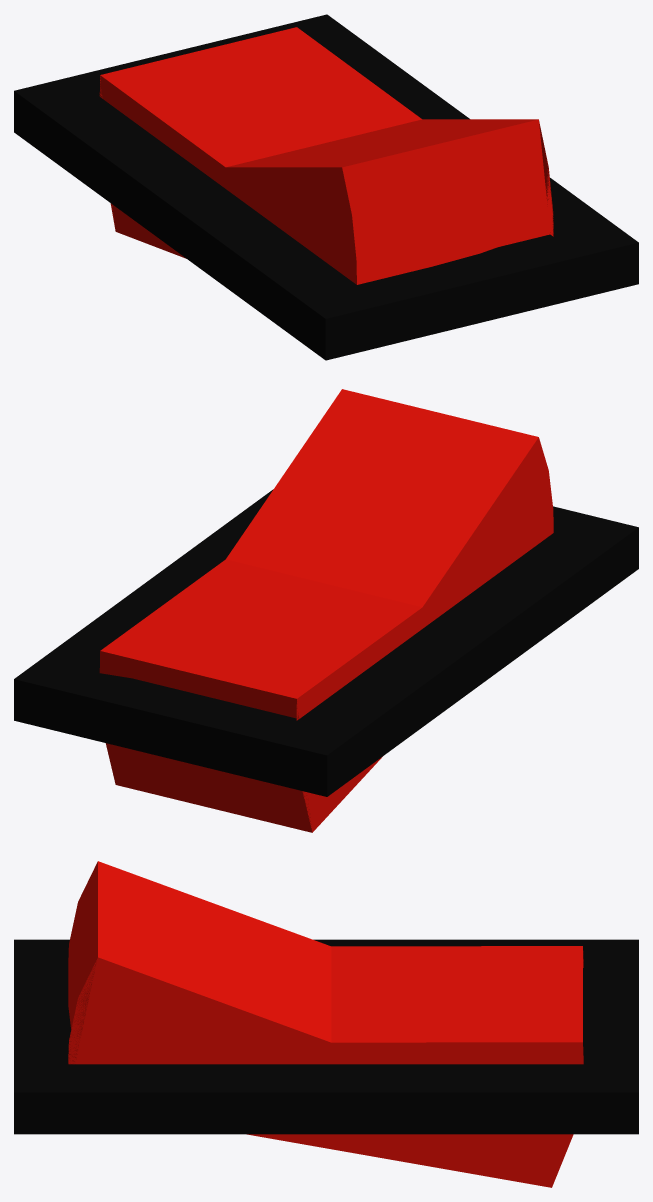
Rendered from Flipper.fbx.
3 renders of one model, top to bottom at view 1: azimuth 30°, elevation 25°; view 2: azimuth 150°, elevation 25°; view 3: azimuth 270°, elevation 25°, orthographic.
Visible parts, largest first — view 1: Flipper.001, Flipper; view 2: Flipper.001, Flipper; view 3: Flipper.001, Flipper.
Boxes of the visible parts, left/top/right/bottom form: Flipper.001: left=99, top=27, right=553, bottom=284; Flipper: left=14, top=14, right=638, bottom=360; Flipper.001: left=99, top=389, right=553, bottom=832; Flipper: left=14, top=489, right=638, bottom=796; Flipper.001: left=68, top=861, right=583, bottom=1187; Flipper: left=14, top=939, right=638, bottom=1134.
Bounding box in the file's own units: 22.33 × 15.68 × 38.51.
